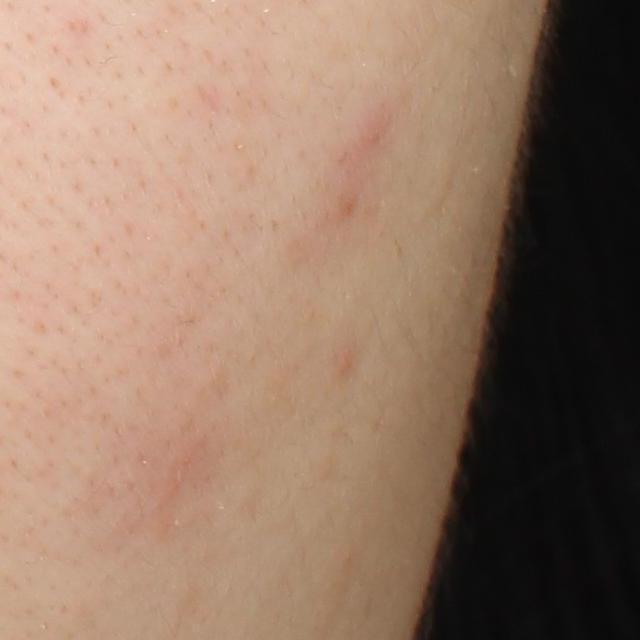papule: (331, 346, 359, 379)
